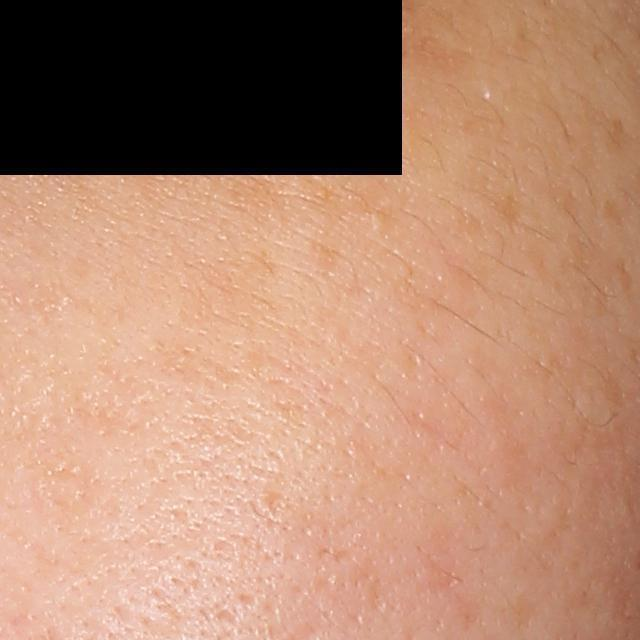melasma: (174, 251, 277, 327), (213, 166, 290, 226), (581, 94, 625, 157), (470, 184, 530, 229), (534, 177, 586, 225)
